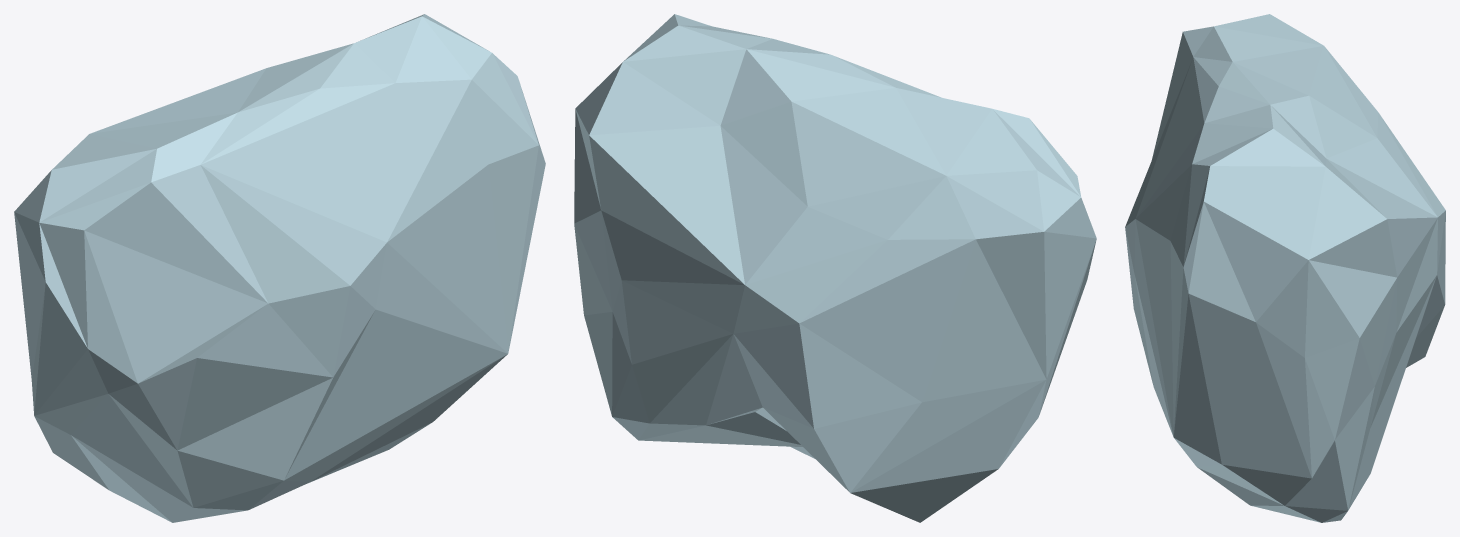
The model's file is LowPoly - Rock 04.fbx.
3 views of the same model, side by side, from view 1: azimuth 30°, elevation 25°; view 2: azimuth 150°, elevation 25°; view 3: azimuth 270°, elevation 25° (orthographic). The views are drawn at different scales.
Parts seen in each view (by area): view 1: LowPoly - Rock 04; view 2: LowPoly - Rock 04; view 3: LowPoly - Rock 04.
Part boxes in pixels (box(x1,y1,x2,y2)): LowPoly - Rock 04: box(14, 14, 545, 522); LowPoly - Rock 04: box(574, 14, 1096, 522); LowPoly - Rock 04: box(1125, 14, 1445, 522).
Bounding box in the file's own units: 244 × 207 × 144.
